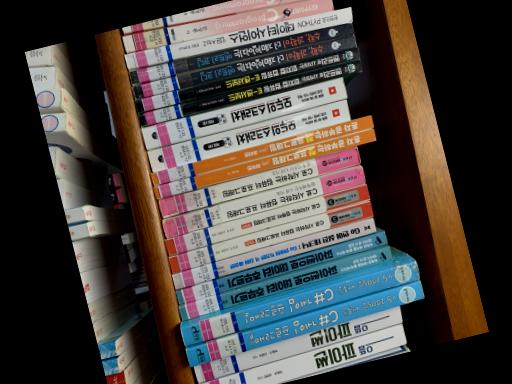book-spine: (179, 262, 419, 348), (183, 281, 422, 367), (176, 246, 392, 322), (192, 305, 402, 383), (152, 129, 376, 200), (149, 116, 373, 186), (137, 60, 362, 128), (176, 233, 386, 305), (132, 48, 360, 114), (147, 100, 350, 173), (164, 185, 369, 257), (139, 78, 346, 149), (161, 166, 365, 238), (171, 219, 375, 291), (166, 203, 372, 274), (157, 147, 359, 219), (129, 34, 356, 98), (122, 7, 351, 70), (128, 23, 353, 86), (200, 324, 406, 384), (121, 0, 332, 53), (121, 0, 303, 34)
